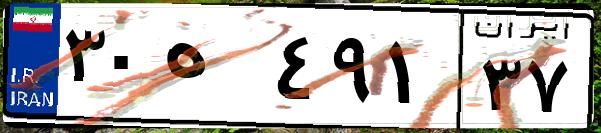0: (110, 28, 158, 98)
1: (385, 28, 445, 110)
3: (57, 26, 110, 100), (475, 38, 525, 113)
4: (270, 28, 330, 110)
7: (525, 38, 570, 115)
9: (330, 28, 385, 110)
ه: (158, 20, 270, 120)
